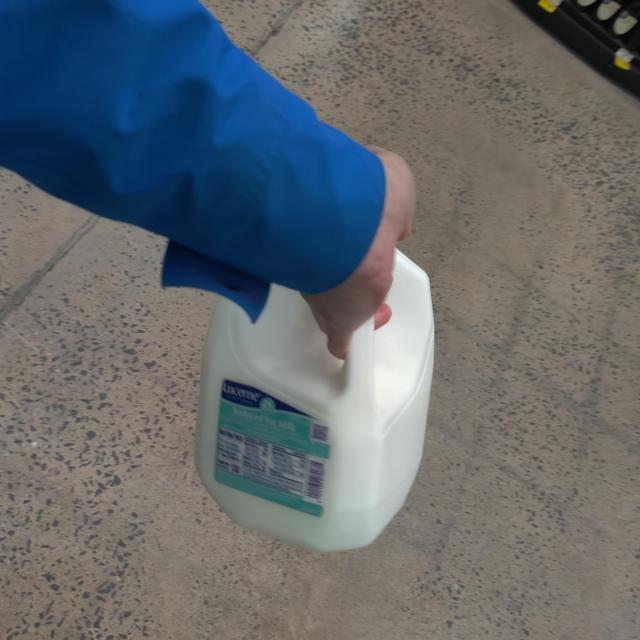Milk: (197, 220, 436, 550)
